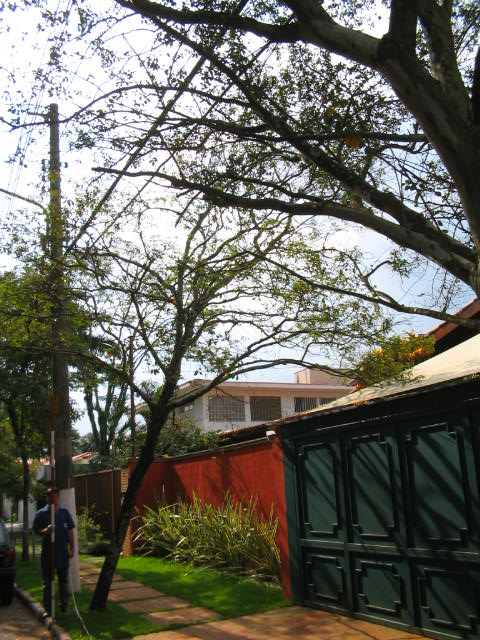crown: (4, 168, 434, 414)
stem: (84, 416, 192, 609)
stick: (42, 391, 61, 621)
tree: (1, 164, 437, 610)
